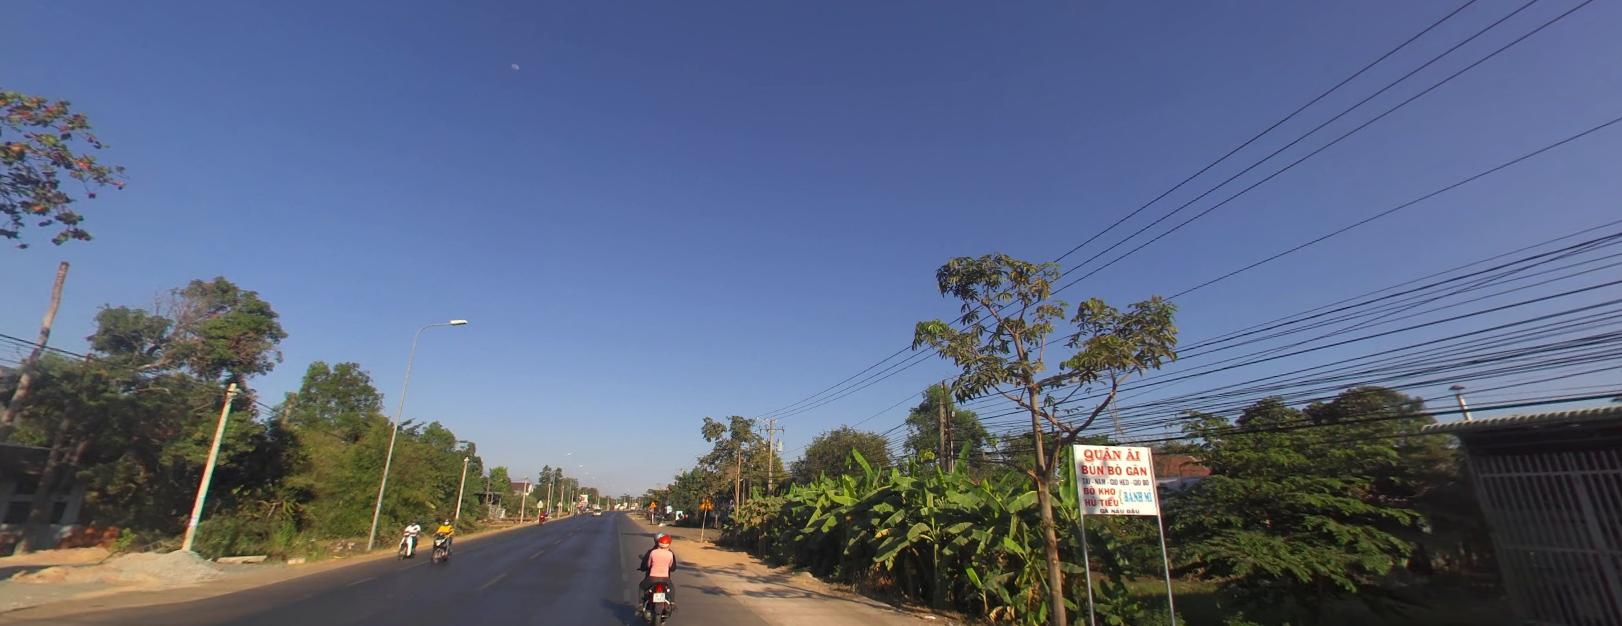Nguy hiem: (698, 496, 714, 509), (648, 500, 657, 506)
